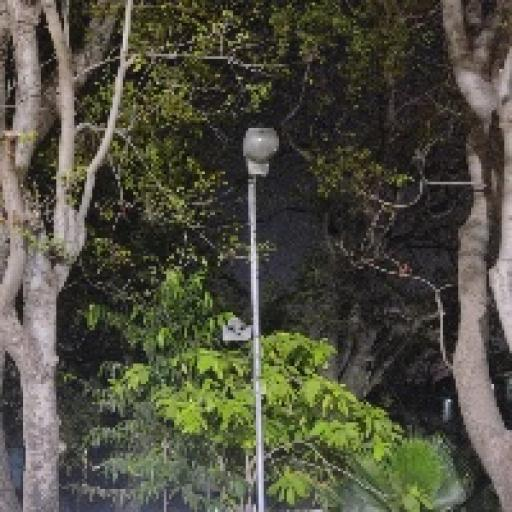Not Working: (232, 120, 290, 198)
